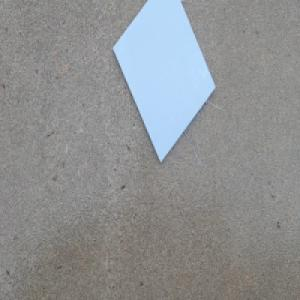PaintChip: (111, 0, 215, 166)
